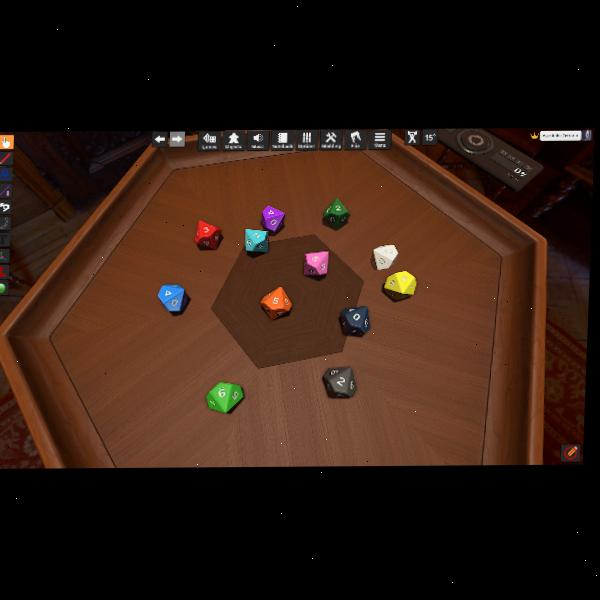d10: (206, 380, 244, 411), (260, 286, 293, 319), (322, 367, 357, 398), (383, 270, 415, 300), (157, 283, 188, 312), (323, 197, 349, 230), (195, 220, 222, 249), (258, 205, 283, 235), (372, 244, 397, 270), (303, 250, 327, 275), (244, 228, 268, 252)
